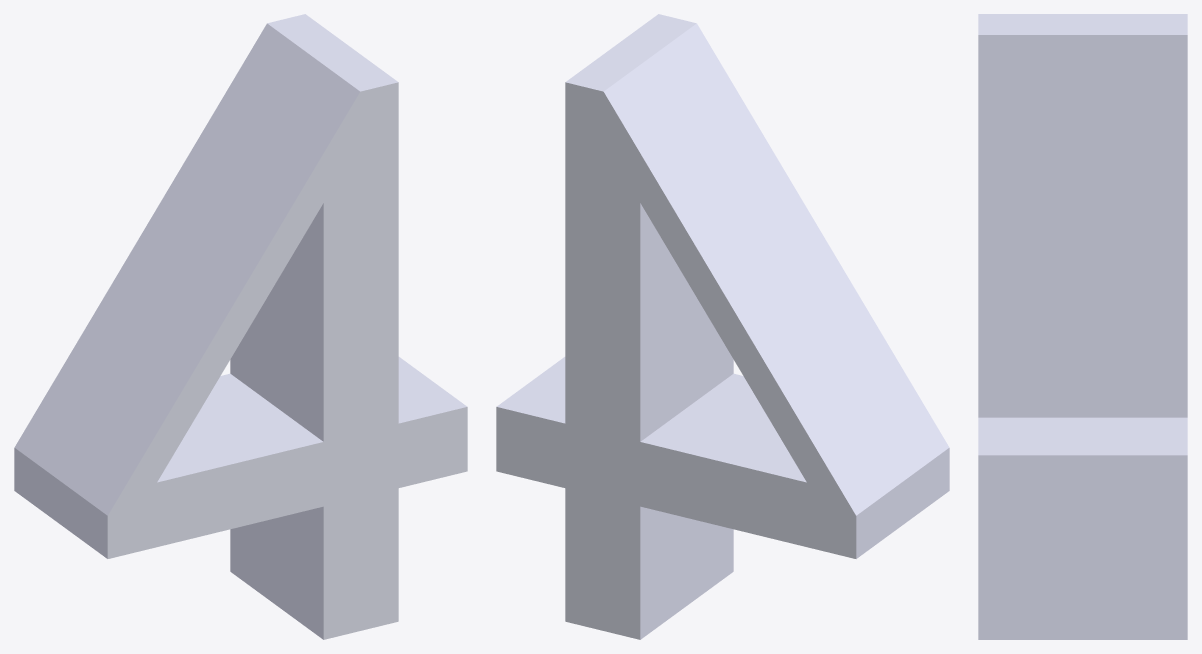
3 renders of one model, left to right at view 1: azimuth 30°, elevation 25°; view 2: azimuth 150°, elevation 25°; view 3: azimuth 270°, elevation 25°, orthographic. The views are drawn at different scales.
Visible parts, largest first — view 1: 4_Soul_Grey; view 2: 4_Soul_Grey; view 3: 4_Soul_Grey.
Boxes of the visible parts, x1,y1,x2,y2 form: 4_Soul_Grey: [14, 14, 467, 639]; 4_Soul_Grey: [496, 14, 949, 639]; 4_Soul_Grey: [978, 14, 1187, 639].
Size of what is drawn, in the model's own units: 0.1002 by 0.1435 by 0.045.
2 materials, 2 textured.
